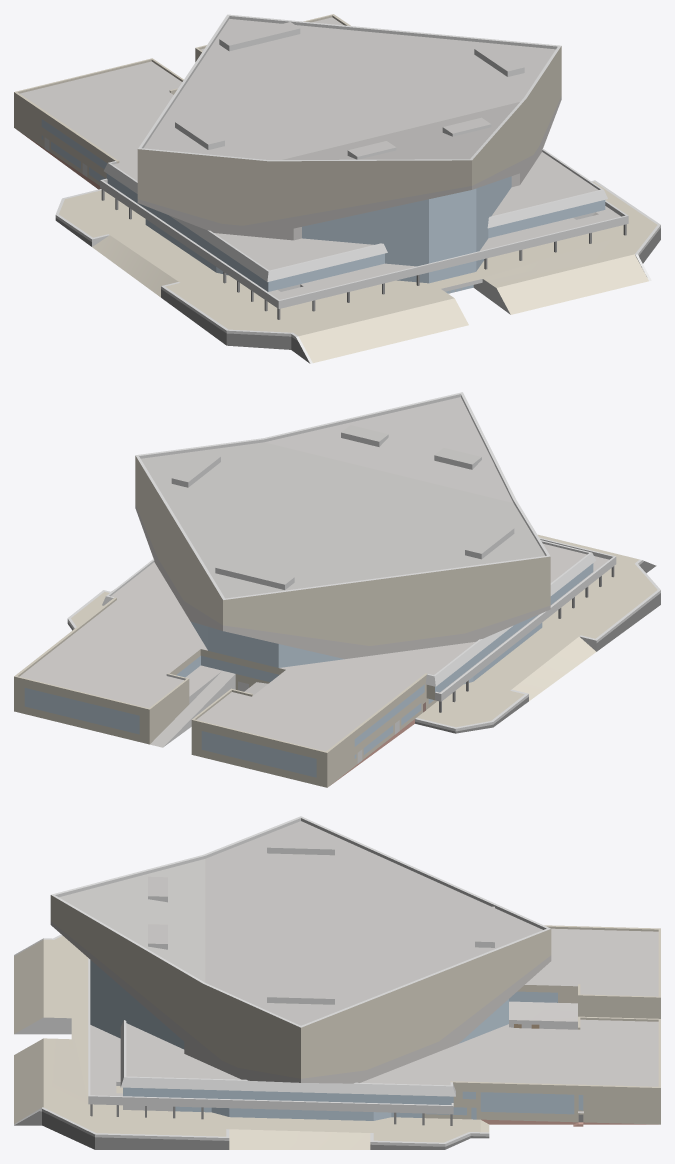
Rendered from sportsconcertcomplexlod.glb.
3 views of the same model, one above another, from view 1: azimuth 30°, elevation 25°; view 2: azimuth 150°, elevation 25°; view 3: azimuth 270°, elevation 25° (orthographic). The views are drawn at different scales.
Parts seen in each view (by area): view 1: sportsconcertcomplexlod; view 2: sportsconcertcomplexlod; view 3: sportsconcertcomplexlod.
Boxes of the visible parts, x1,y1,x2,y2 form: sportsconcertcomplexlod: (14, 14, 660, 363); sportsconcertcomplexlod: (14, 392, 660, 787); sportsconcertcomplexlod: (14, 816, 660, 1149).
Size of the model in its own units: 115 by 37 by 145.
1 material, 1 textured.
